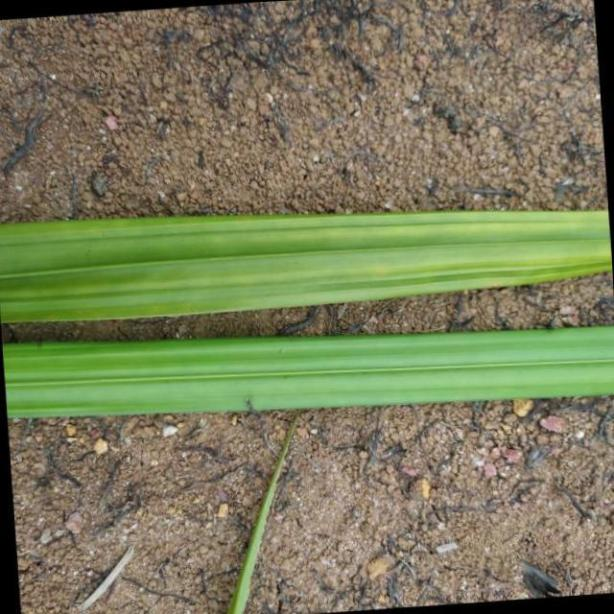nitrogen: (0, 203, 614, 326), (0, 326, 614, 421)
